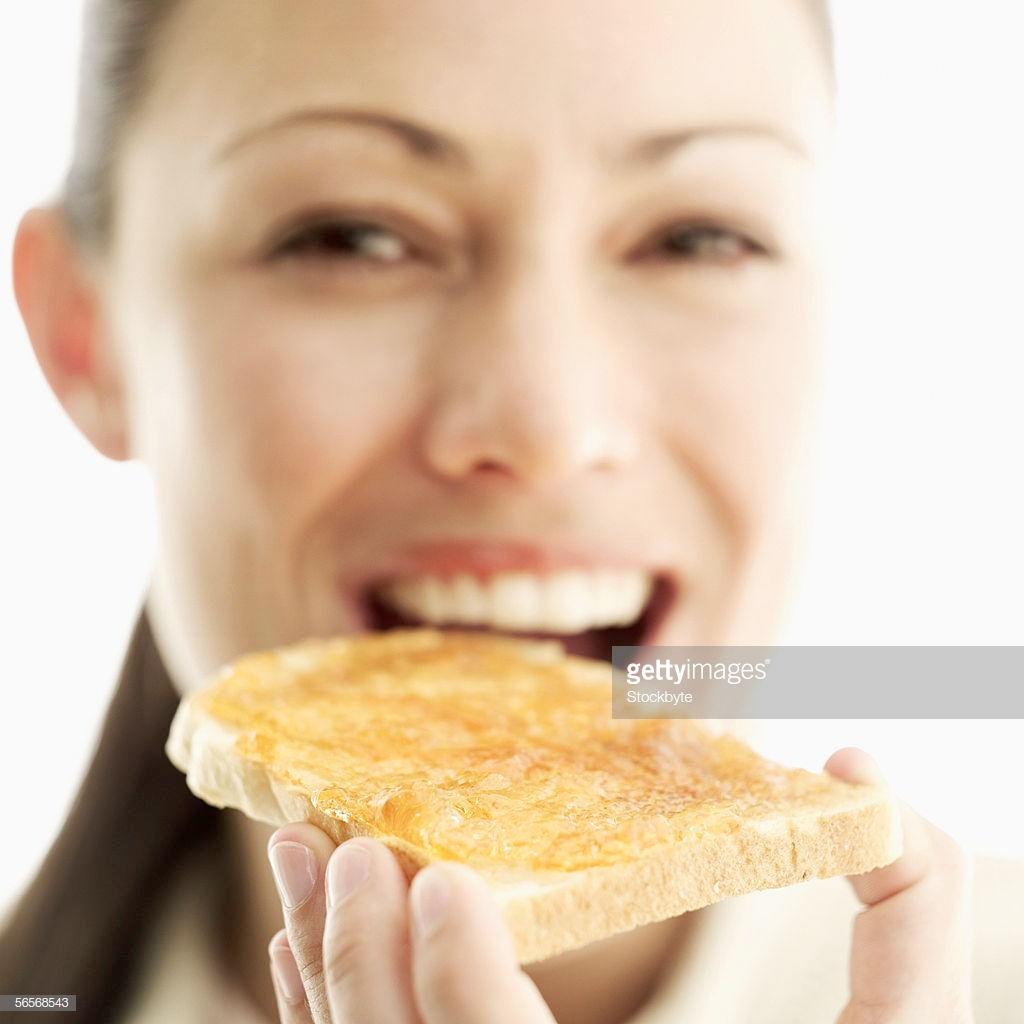slice of bread: (178, 673, 658, 930)
